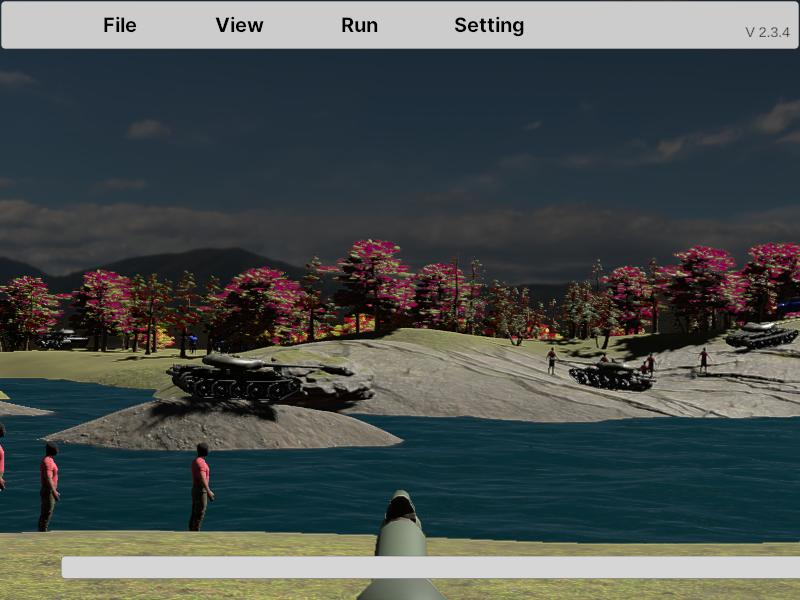Human: (189, 441, 213, 549), (38, 439, 61, 549), (0, 422, 6, 535)
Tank: (165, 351, 352, 402), (553, 356, 656, 391), (724, 318, 799, 349)
